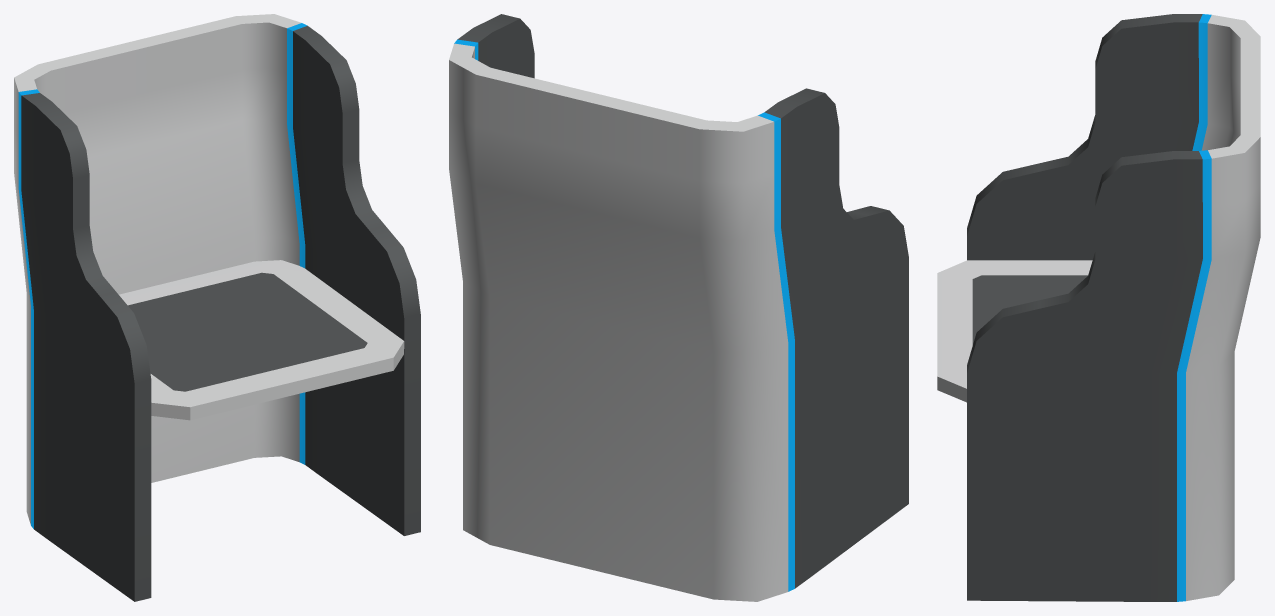
Rendered from Chair_010.glb.
The picture shows the model from 3 angles, left to right: view 1: azimuth 30°, elevation 25°; view 2: azimuth 150°, elevation 25°; view 3: azimuth 270°, elevation 25°; orthographic projection. The views are drawn at different scales.
Parts seen in each view (by area): view 1: Chair_010; view 2: Chair_010; view 3: Chair_010.
Boxes of the visible parts, x1,y1,x2,y2 form: Chair_010: (14,14,420,601); Chair_010: (449,14,908,601); Chair_010: (937,14,1260,601).
Bounding box in the file's own units: 0.6355 × 0.9014 × 0.5968.
2 materials, 2 textured.
